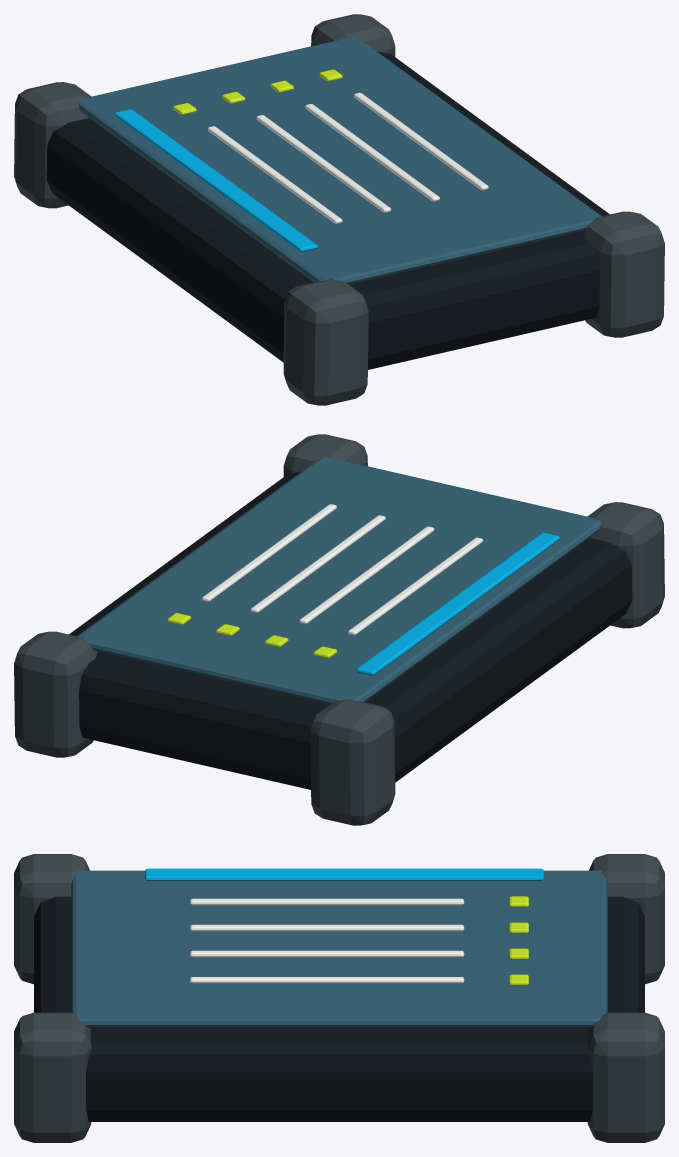
File: PROP_Tablet.glb
3 views of the same model, one above another, from view 1: azimuth 30°, elevation 25°; view 2: azimuth 150°, elevation 25°; view 3: azimuth 270°, elevation 25° (orthographic). The views are drawn at different scales.
Visible parts, largest first — view 1: PROP_Tablet; view 2: PROP_Tablet; view 3: PROP_Tablet.
Part boxes in pixels (x1=…): PROP_Tablet: x1=14, y1=14, x2=664, y2=405; PROP_Tablet: x1=14, y1=434, x2=664, y2=825; PROP_Tablet: x1=14, y1=854, x2=664, y2=1142.
Bounding box in the file's own units: 0.1775 × 0.054 × 0.261.
Materials: 2 (1 with a texture image).
